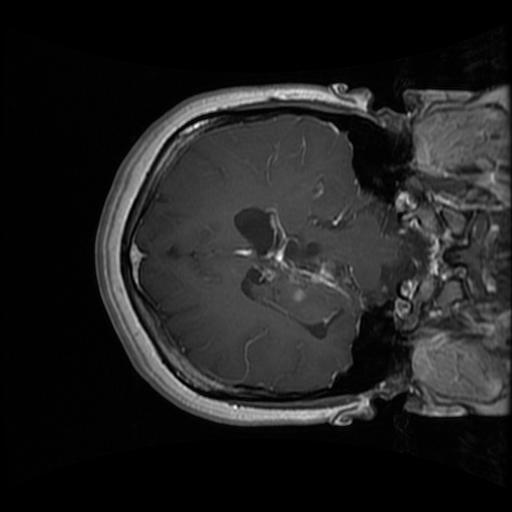glioma: (230, 206, 361, 345)
